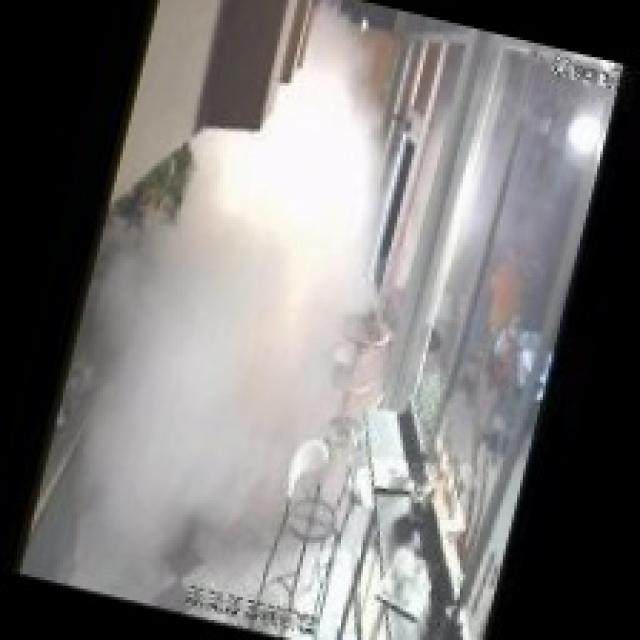smoke: (69, 0, 448, 517)
